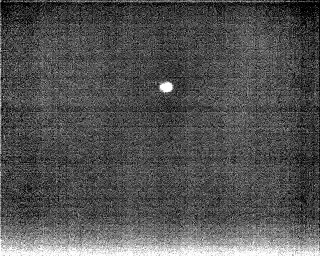AIRPLANE: (157, 78, 175, 96)
